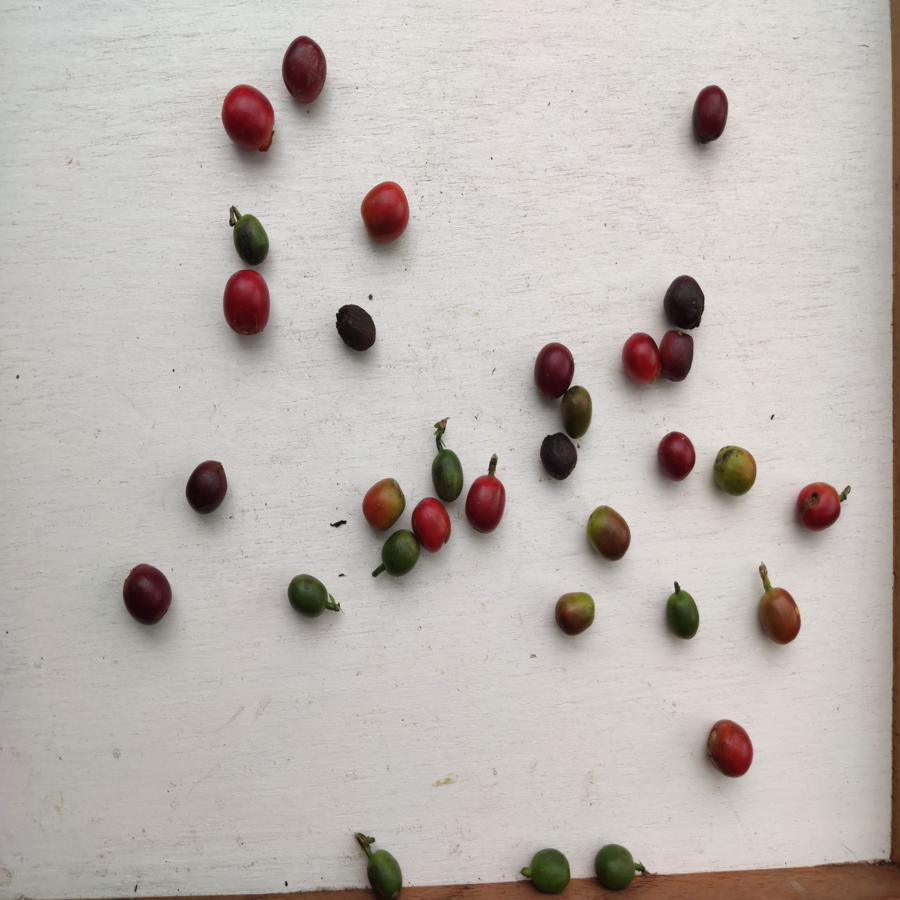Inmaduro: (364, 846, 408, 896), (525, 848, 573, 893), (593, 843, 638, 890), (233, 215, 273, 266), (288, 573, 329, 622), (663, 588, 702, 639), (381, 531, 423, 578), (427, 447, 463, 500)
Maduro: (217, 84, 276, 156), (219, 269, 274, 337), (701, 716, 756, 780), (357, 181, 410, 245), (465, 472, 507, 532), (794, 482, 844, 530), (409, 498, 453, 548), (619, 332, 656, 386)
Pinton: (586, 504, 635, 564), (758, 586, 804, 648), (360, 477, 408, 529), (711, 446, 759, 496), (552, 591, 596, 638), (560, 385, 596, 439)
Sobremaduro: (281, 37, 329, 108), (123, 561, 172, 627), (663, 274, 709, 330), (531, 343, 576, 397), (333, 305, 383, 353), (188, 459, 231, 514), (691, 85, 728, 146), (534, 432, 578, 481), (658, 329, 698, 381), (657, 432, 698, 482)
